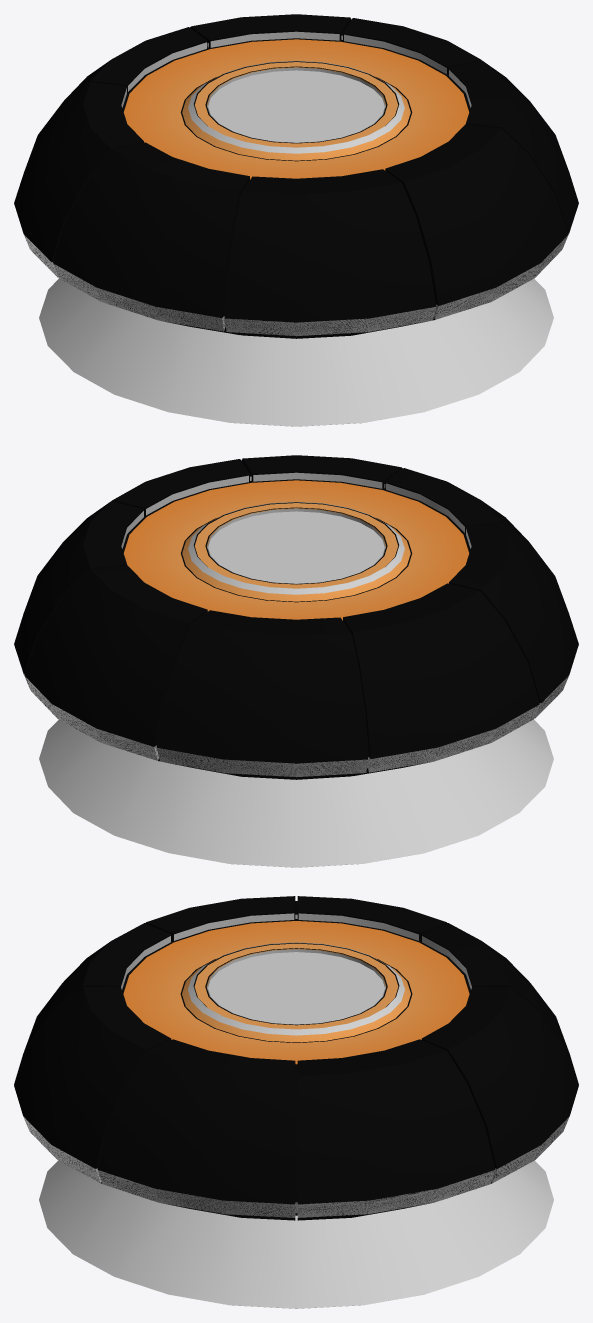
File: Rooms_Paradise_Platform03_Art.fbx
The picture shows the model from 3 angles, top to bottom: view 1: azimuth 30°, elevation 25°; view 2: azimuth 150°, elevation 25°; view 3: azimuth 270°, elevation 25°; orthographic projection.
Parts seen in each view (by area): view 1: Rooms_Paradise_Platform03_Outliner, Rooms_Paradise_Platform03_Art, Rooms_Paradise_Platform03_Shadows; view 2: Rooms_Paradise_Platform03_Outliner, Rooms_Paradise_Platform03_Art, Rooms_Paradise_Platform03_Shadows; view 3: Rooms_Paradise_Platform03_Outliner, Rooms_Paradise_Platform03_Art, Rooms_Paradise_Platform03_Shadows.
Boxes of the visible parts, x1,y1,x2,y2 form: Rooms_Paradise_Platform03_Outliner: (14, 14, 578, 338); Rooms_Paradise_Platform03_Art: (39, 38, 553, 426); Rooms_Paradise_Platform03_Shadows: (24, 31, 568, 336); Rooms_Paradise_Platform03_Outliner: (14, 455, 578, 779); Rooms_Paradise_Platform03_Art: (39, 479, 553, 867); Rooms_Paradise_Platform03_Shadows: (24, 472, 568, 777); Rooms_Paradise_Platform03_Outliner: (14, 896, 578, 1220); Rooms_Paradise_Platform03_Art: (39, 919, 553, 1308); Rooms_Paradise_Platform03_Shadows: (23, 913, 569, 1217).
Bounding box in the file's own units: 400 × 168 × 400.
